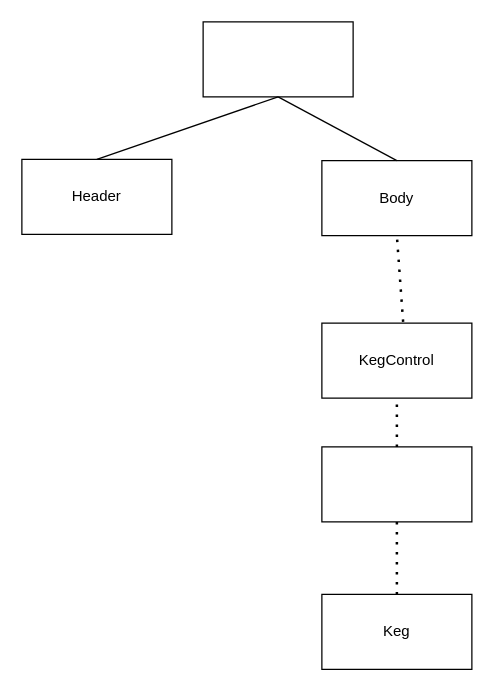
Image size: 494x691. Some labels were removed from this diagram. The shapes that lost their labels are listed below. From the top down, each one's centre as x and y in pixels, then its label:
the point at 277,59: App.js
the point at 396,484: KegList
